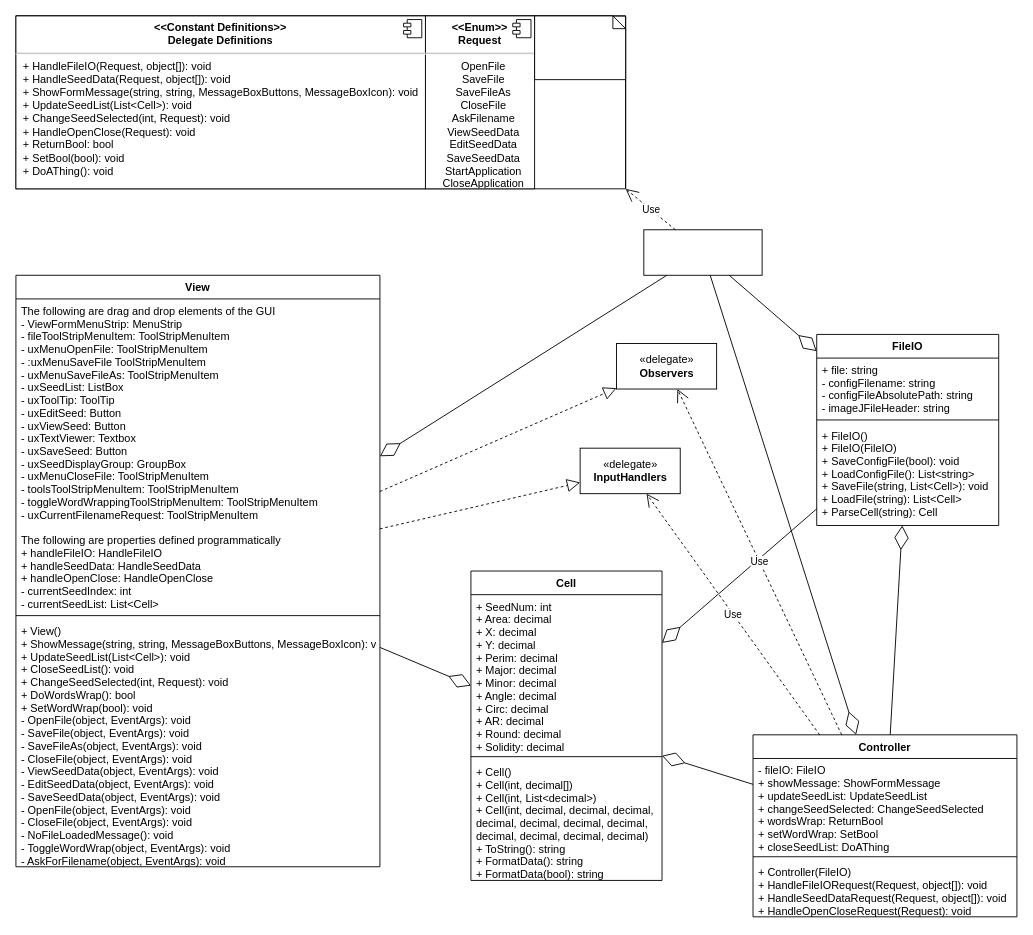
This 1033x935 diagram has some shape labels left out. The centre of each missing label's shape, as x and y in pixels:
Program: the point at 702,252
These are in separate files, but can be accessed by all classes in the program.: the point at 580,47
